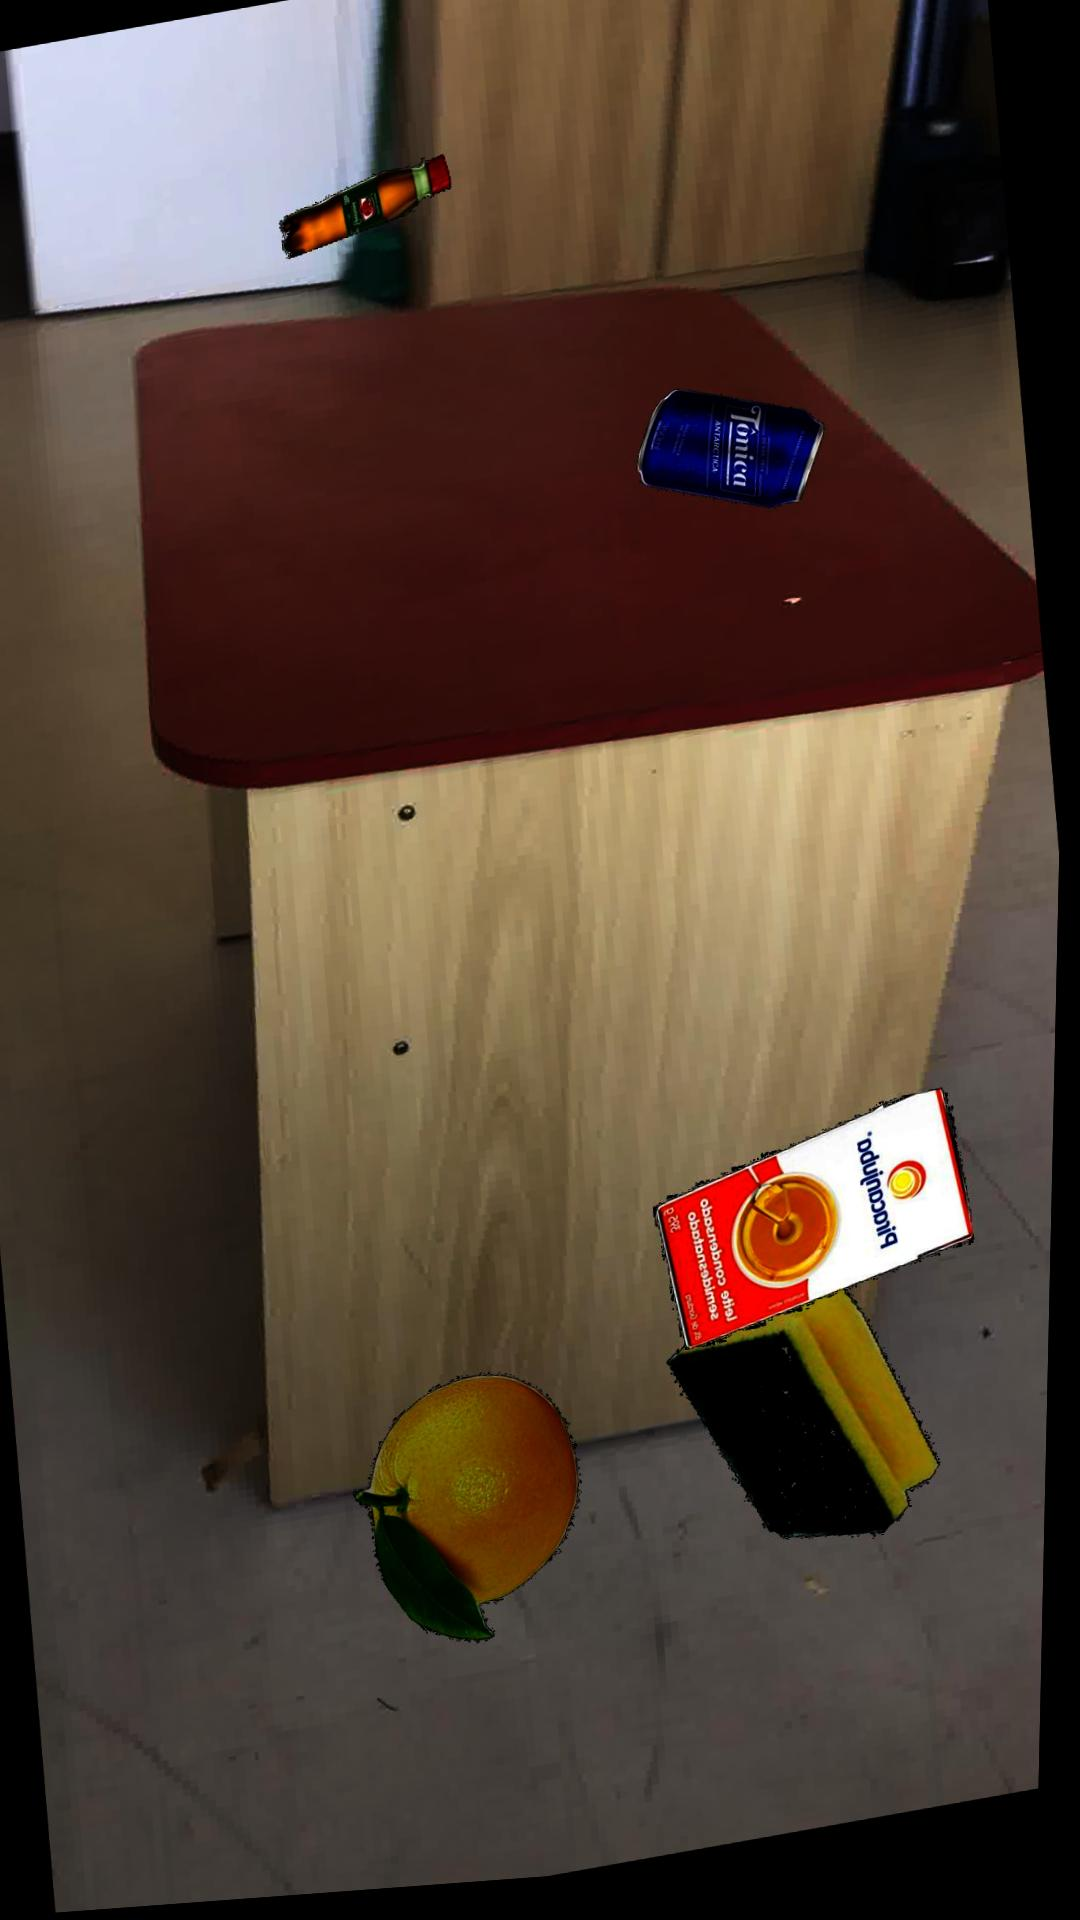guarana: (282, 160, 454, 262)
orange: (363, 1379, 588, 1648)
sponge: (675, 1302, 949, 1549)
tonic: (641, 398, 828, 518)
